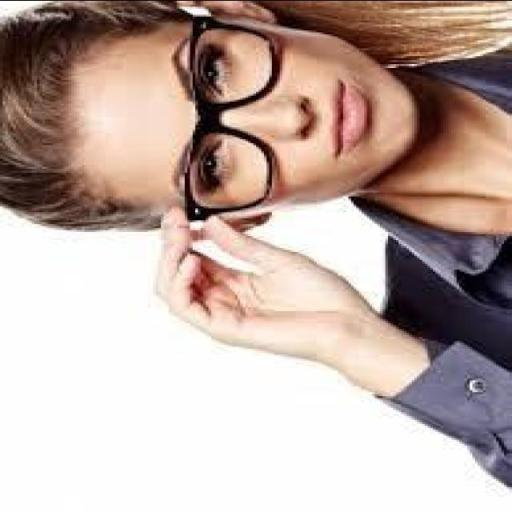glasses: (162, 19, 308, 220)
